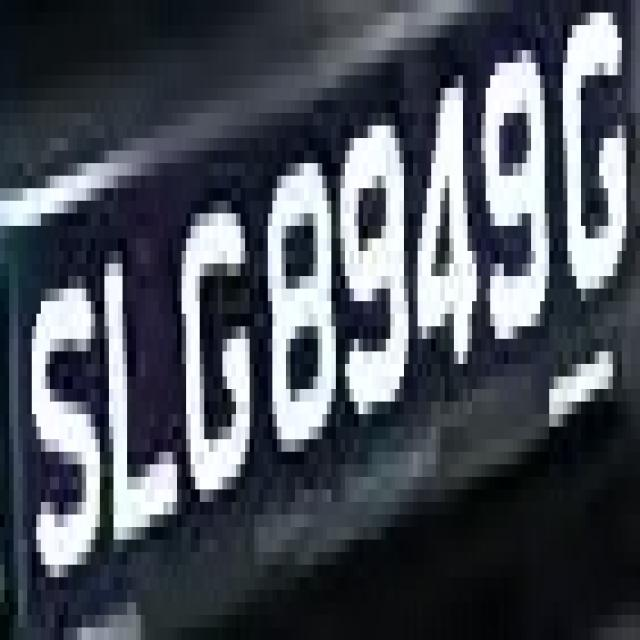4: (400, 88, 500, 414)
8: (254, 163, 340, 477)
9: (472, 50, 577, 377), (327, 113, 413, 464)
G: (172, 176, 264, 527), (554, 38, 626, 338)
L: (105, 213, 182, 565)
S: (14, 263, 109, 590)
